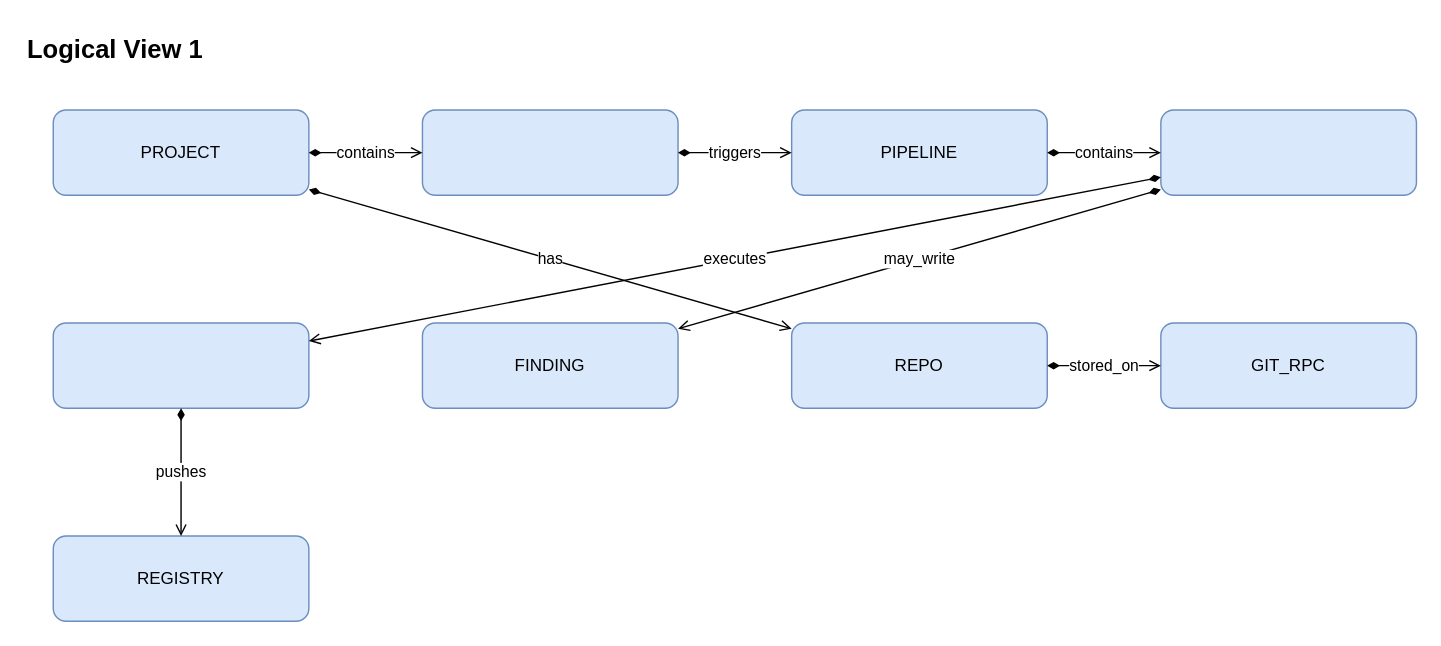
Some shapes in this 1441 by 646 pixel diagram are drawn without their labels. The box of each missing label's shape, as (x1, y1, x2, y2) in pixels:
JOB: (1159, 109, 1416, 195)
MERGE_REQUEST: (421, 109, 678, 195)
WORKER: (52, 322, 309, 408)
